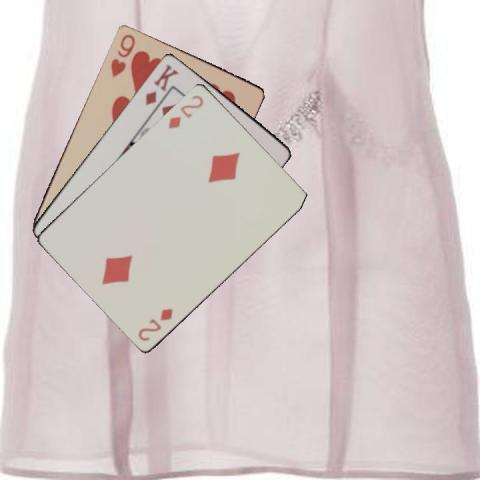2d: (166, 91, 206, 130), (134, 304, 175, 342)
9h: (107, 30, 137, 78)
Kd: (142, 61, 180, 106)
